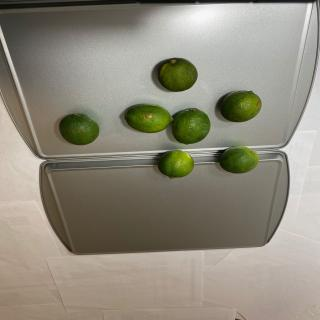Apple: (157, 57, 198, 92)
Lemon: (124, 103, 173, 133), (171, 108, 211, 144), (220, 90, 262, 122), (59, 113, 100, 145), (219, 146, 259, 174), (158, 150, 194, 178)
